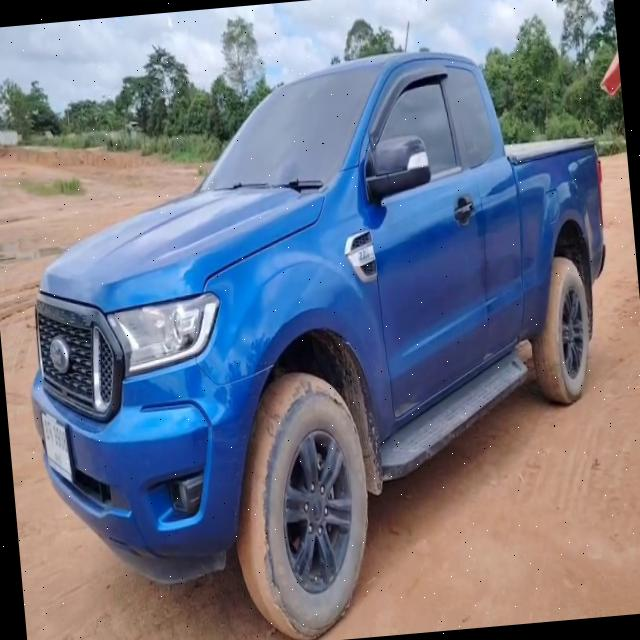Digit: (52, 424, 68, 454)
Licenseplate: (40, 410, 73, 485)
Provincename: (52, 450, 63, 468)
Thaichar: (43, 418, 53, 443)
